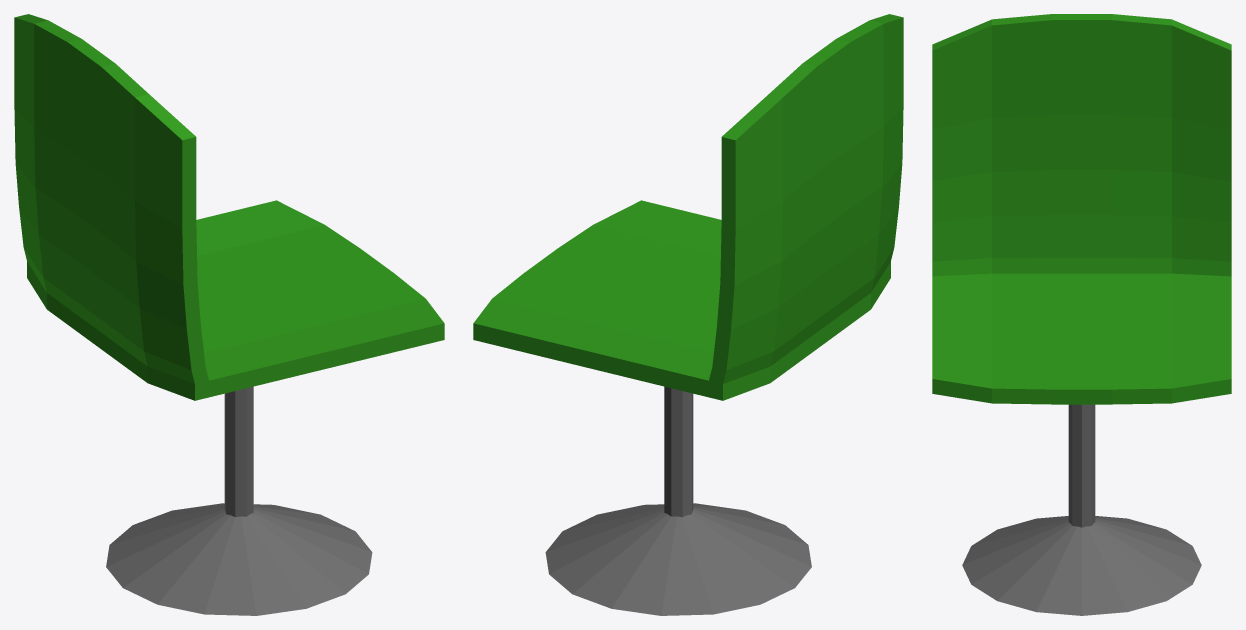
Rendered from Chairgreen.fbx.
3 renders of one model, left to right at view 1: azimuth 30°, elevation 25°; view 2: azimuth 150°, elevation 25°; view 3: azimuth 270°, elevation 25°, orthographic. The views are drawn at different scales.
Parts seen in each view (by area): view 1: Cube; view 2: Cube; view 3: Cube.
Part boxes in pixels (x1=…): Cube: x1=14, y1=14, x2=444, y2=615; Cube: x1=473, y1=14, x2=903, y2=615; Cube: x1=932, y1=14, x2=1231, y2=615.
Bounding box in the file's own units: 202 × 357 × 200.
